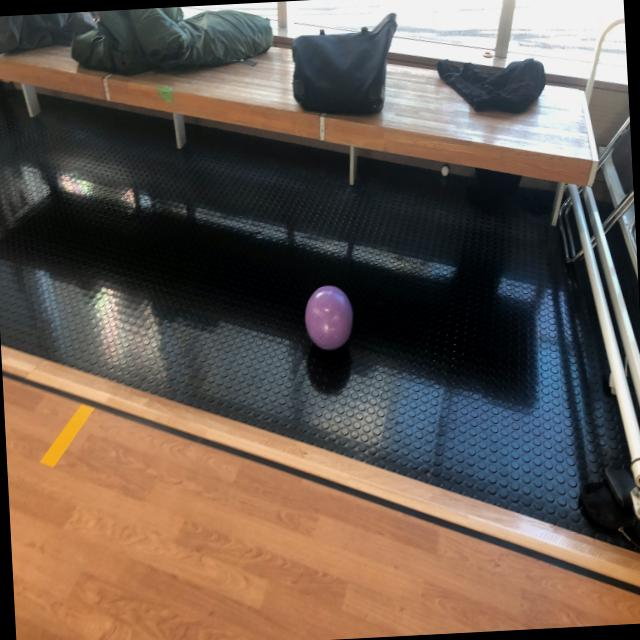purple_ball: (304, 284, 354, 352)
